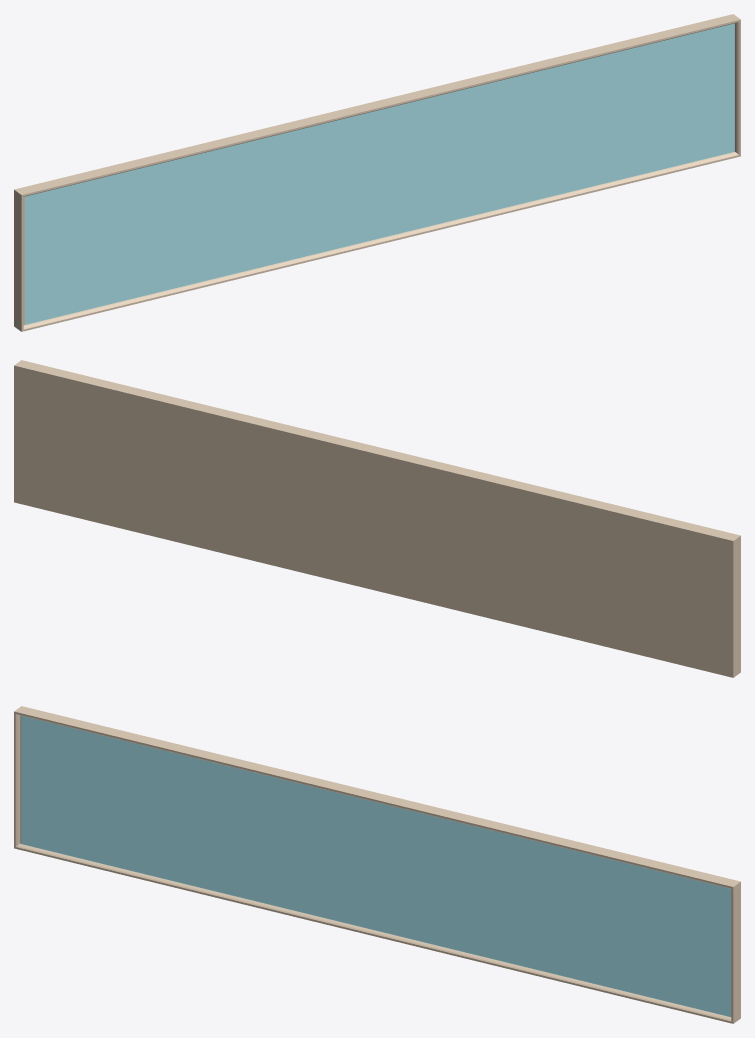
Rendered from Espelho.fbx.
The picture shows the model from 3 angles, top to bottom: view 1: azimuth 30°, elevation 25°; view 2: azimuth 150°, elevation 25°; view 3: azimuth 330°, elevation 25°; orthographic projection.
Visible parts, largest first — view 1: Base, Vidro; view 2: Base; view 3: Base, Vidro.
Boxes of the visible parts, x1,y1,x2,y2 form: Base: (14,14,740,331); Vidro: (25,23,734,324); Base: (14,360,740,677); Base: (14,706,740,1023); Vidro: (21,716,731,1017).
Size of the model in its own units: 1100 by 200 by 20.02.
